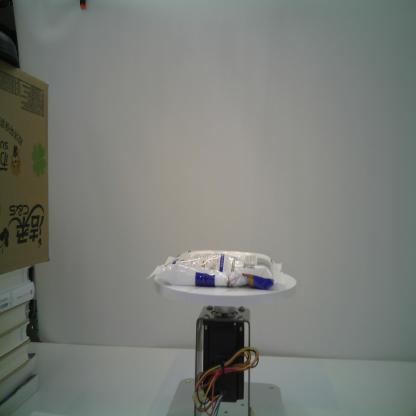Seasoner: (148, 251, 285, 292)
